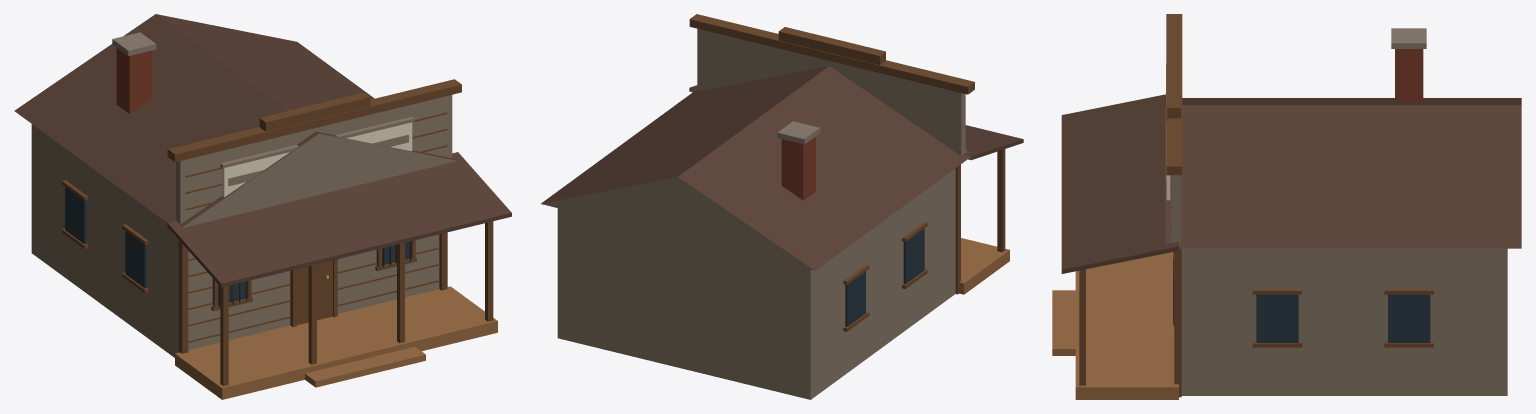
File: SM_Sheriff.fbx
The picture shows the model from 3 angles, left to right: view 1: azimuth 30°, elevation 25°; view 2: azimuth 150°, elevation 25°; view 3: azimuth 270°, elevation 25°; orthographic projection. The views are drawn at different scales.
Visible parts, largest first — view 1: Sheriff; view 2: Sheriff; view 3: Sheriff.
Part boxes in pixels (x1,y1,x2,y2): Sheriff: [14, 14, 511, 399]; Sheriff: [541, 14, 1023, 399]; Sheriff: [1052, 14, 1521, 399].
Bounding box in the file's own units: 780 × 1000 × 592.
